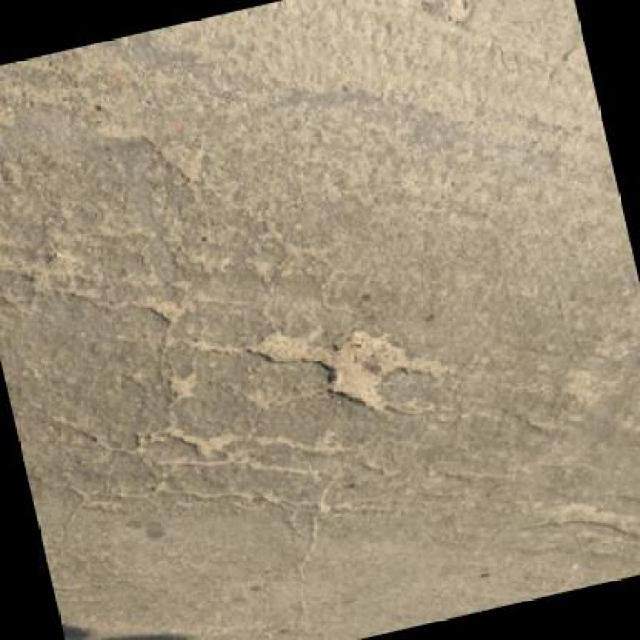pothole1: (248, 293, 460, 442)
